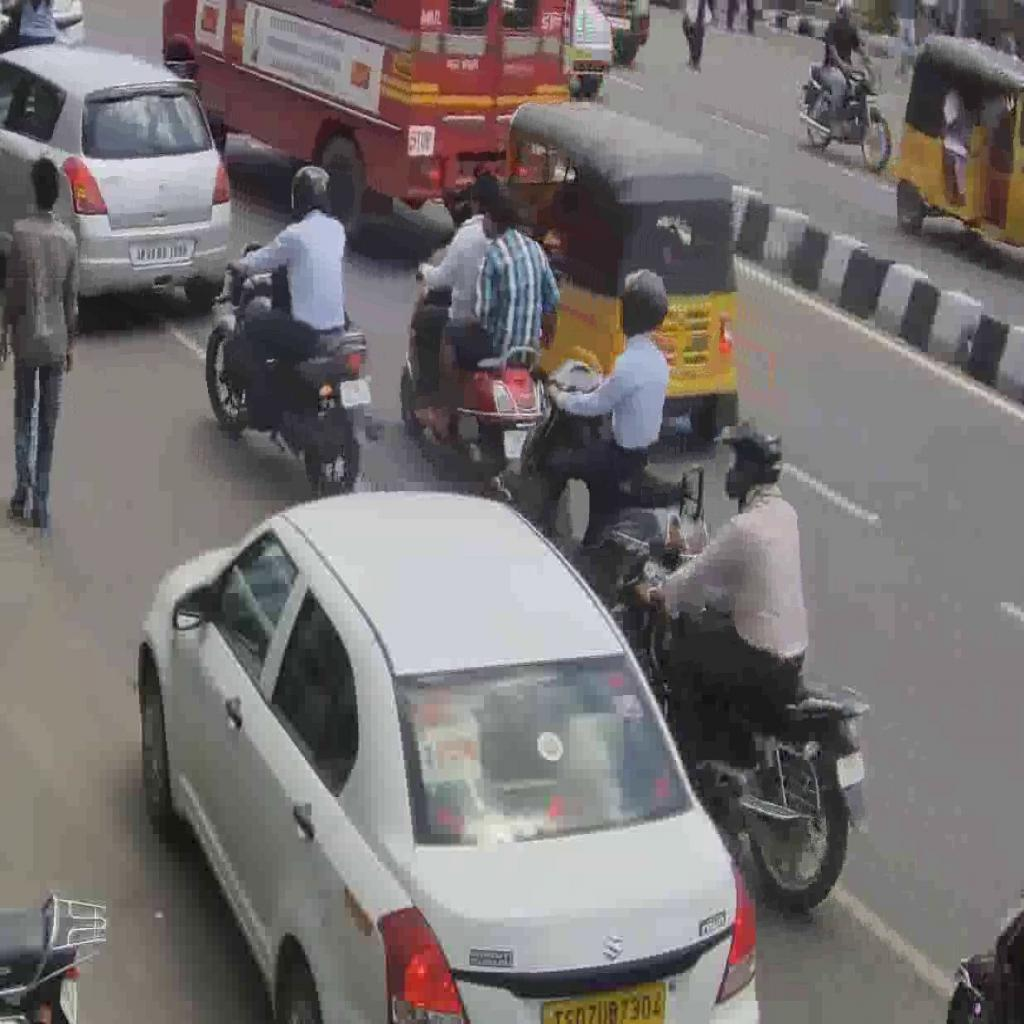bike: (599, 541, 873, 915), (487, 356, 710, 580), (205, 240, 385, 498), (399, 243, 544, 485)
helmet: (712, 424, 785, 502), (618, 267, 670, 343), (288, 164, 333, 222)
lisc: (836, 750, 866, 790), (340, 378, 372, 408)
no_helmet: (468, 170, 502, 216), (482, 195, 514, 241)
noise: (798, 0, 894, 172)
rider: (634, 423, 811, 789), (414, 195, 560, 446), (540, 268, 671, 536), (226, 164, 348, 433), (408, 170, 502, 412)
